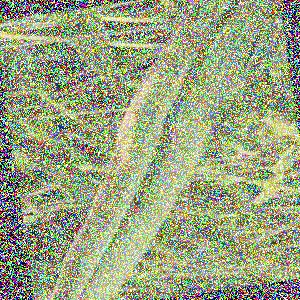Leaf_Blast: (84, 64, 210, 267)
